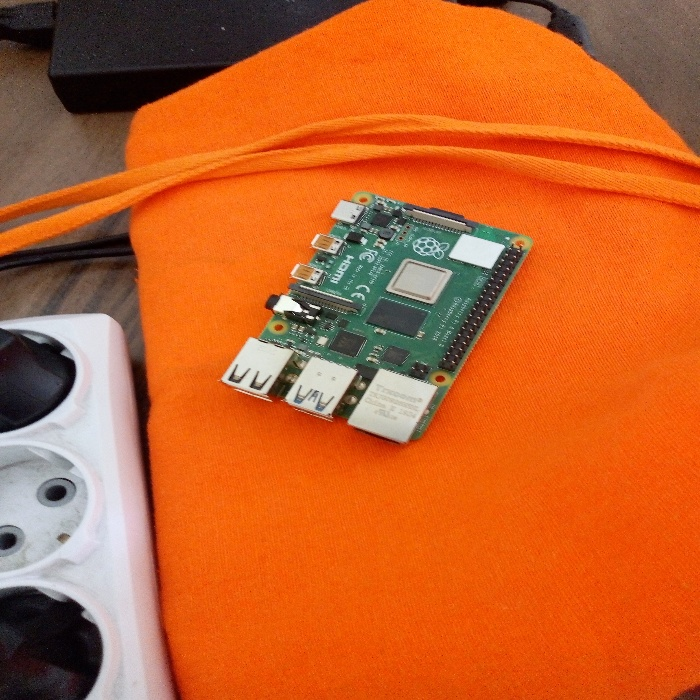raspberry: (236, 169, 537, 455)
